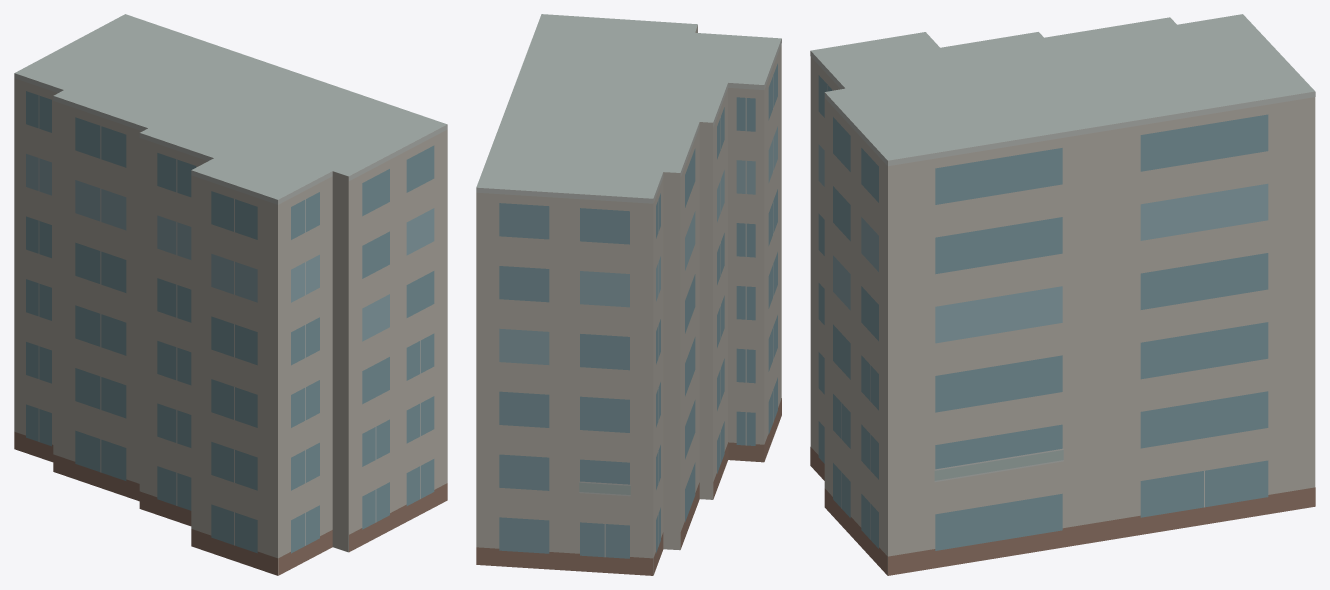
The model's file is survey-upis-32936133.glb.
The picture shows the model from 3 angles, left to right: view 1: azimuth 30°, elevation 25°; view 2: azimuth 150°, elevation 25°; view 3: azimuth 270°, elevation 25°; orthographic projection. The views are drawn at different scales.
Visible parts, largest first — view 1: survey-upis-32936133.tmp; view 2: survey-upis-32936133.tmp; view 3: survey-upis-32936133.tmp.
Part boxes in pixels (x1,y1,x2,y2): survey-upis-32936133.tmp: [14, 14, 447, 575]; survey-upis-32936133.tmp: [476, 14, 781, 575]; survey-upis-32936133.tmp: [810, 14, 1315, 575].
Size of the model in its own units: 13.88 by 18.3 by 20.18.
